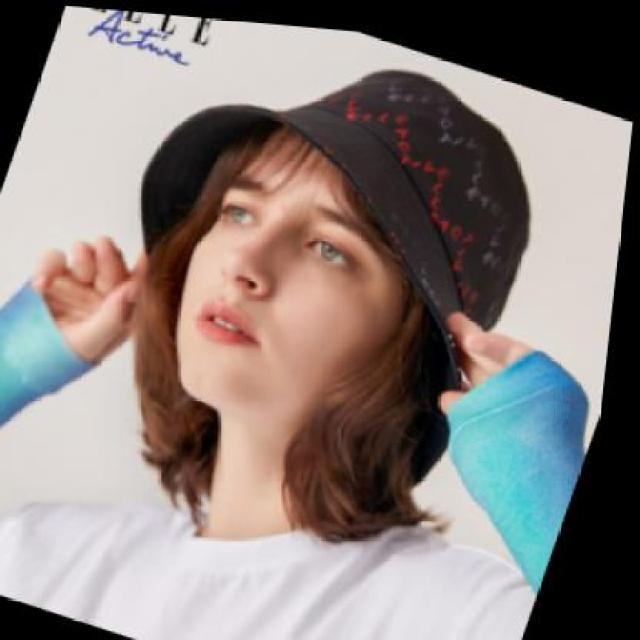hat: (110, 9, 572, 380)
